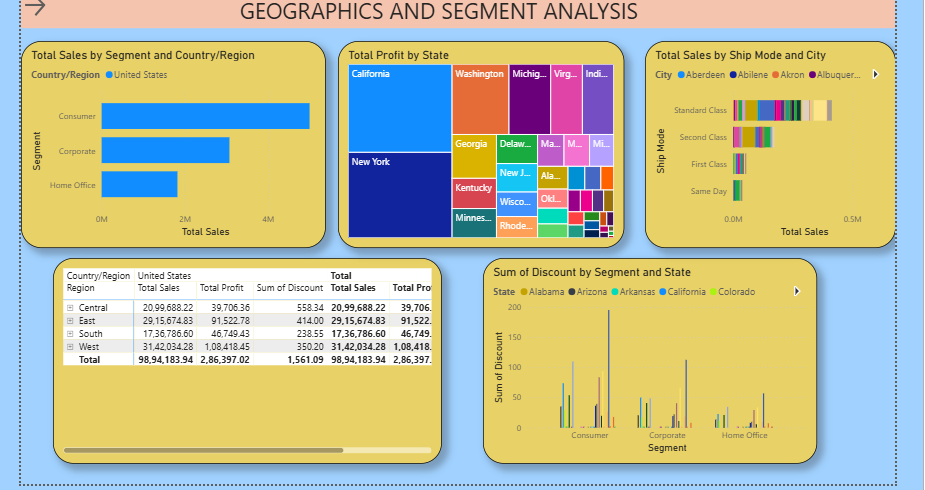

What the dashboard file says about the page in this screenshot:
{"tool":"powerbi","page":{"name":"GEO/SEGMENT","canvas":[1280,720],"ordinal":2},"visuals":[{"type":"barChart","fields":{"Y":["Orders.Total Sales"],"Category":["Orders.Segment"],"Series":["Orders.Country/Region"]},"box":[0,71.7,446.3,302.9],"z":0},{"type":"pivotTable","fields":{"Rows":["Orders.Region","Orders.Customer Name"],"Columns":["Orders.Country/Region"],"Values":["Orders.Total Sales","Orders.Total Profit","Sum(Orders.Discount)"]},"box":[46.8,389.3,569.3,301.5],"z":1000},{"type":"treemap","fields":{"Group":["Orders.State"],"Values":["Orders.Total Profit"]},"box":[463.9,71.7,418.5,302.9],"z":2000},{"type":"clusteredColumnChart","fields":{"Category":["Orders.Segment"],"Y":["Sum(Orders.Discount)"],"Series":["Orders.State"]},"box":[676.1,389.3,488.8,301.5],"z":3000},{"type":"textbox","box":[0,0,1280,52.9],"z":4000},{"type":"barChart","fields":{"Category":["Orders.Ship Mode"],"Series":["Orders.City"],"Y":["Orders.Total Sales"]},"box":[913.2,71.7,367.3,302.9],"z":5000},{"type":"actionButton","box":[0,0,100,40],"z":5001}]}

Visuals, with their boxes on the page's 1280x720 design canvas (x1, y1, x2, y2). These are canvas units, not pixel positions in the 925x490 screenshot, which may show the page scaled, cropped or inside an application window:
barChart - Orders.Total Sales x Orders.Segment: 0, 72, 446, 375
pivotTable - Orders.Region x Orders.Customer Name: 47, 389, 616, 691
treemap - Orders.State x Orders.Total Profit: 464, 72, 882, 375
clusteredColumnChart - Orders.Segment x Sum(Orders.Discount): 676, 389, 1165, 691
textbox: 0, 0, 1280, 53
barChart - Orders.Ship Mode x Orders.City: 913, 72, 1280, 375
actionButton: 0, 0, 100, 40
